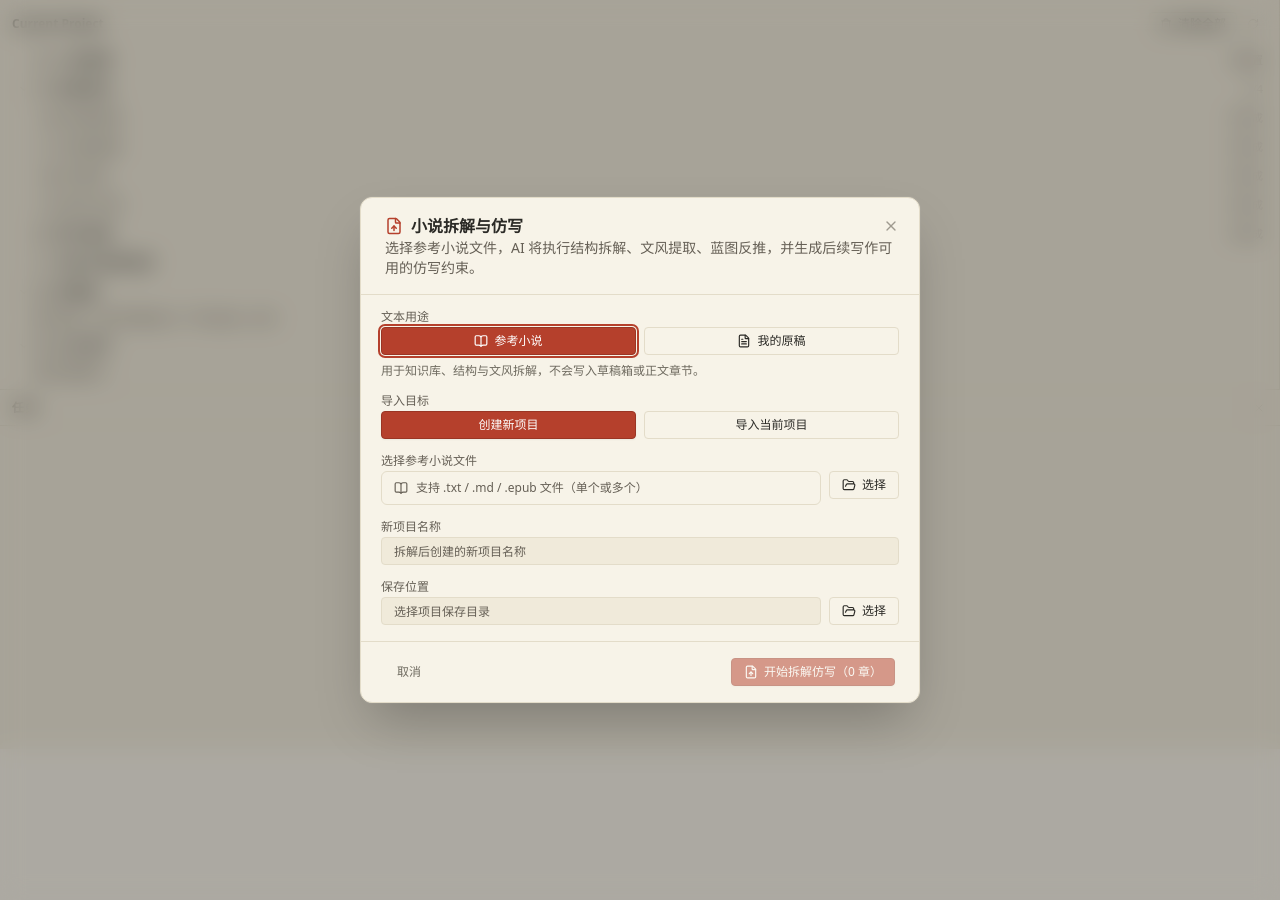
Test: current-project reference import › shows the title-only error and keeps the persisted run id while retrying the corrected source
Click the button with test id "import-target-current". click: (772, 425)
box: [644,411,899,439]
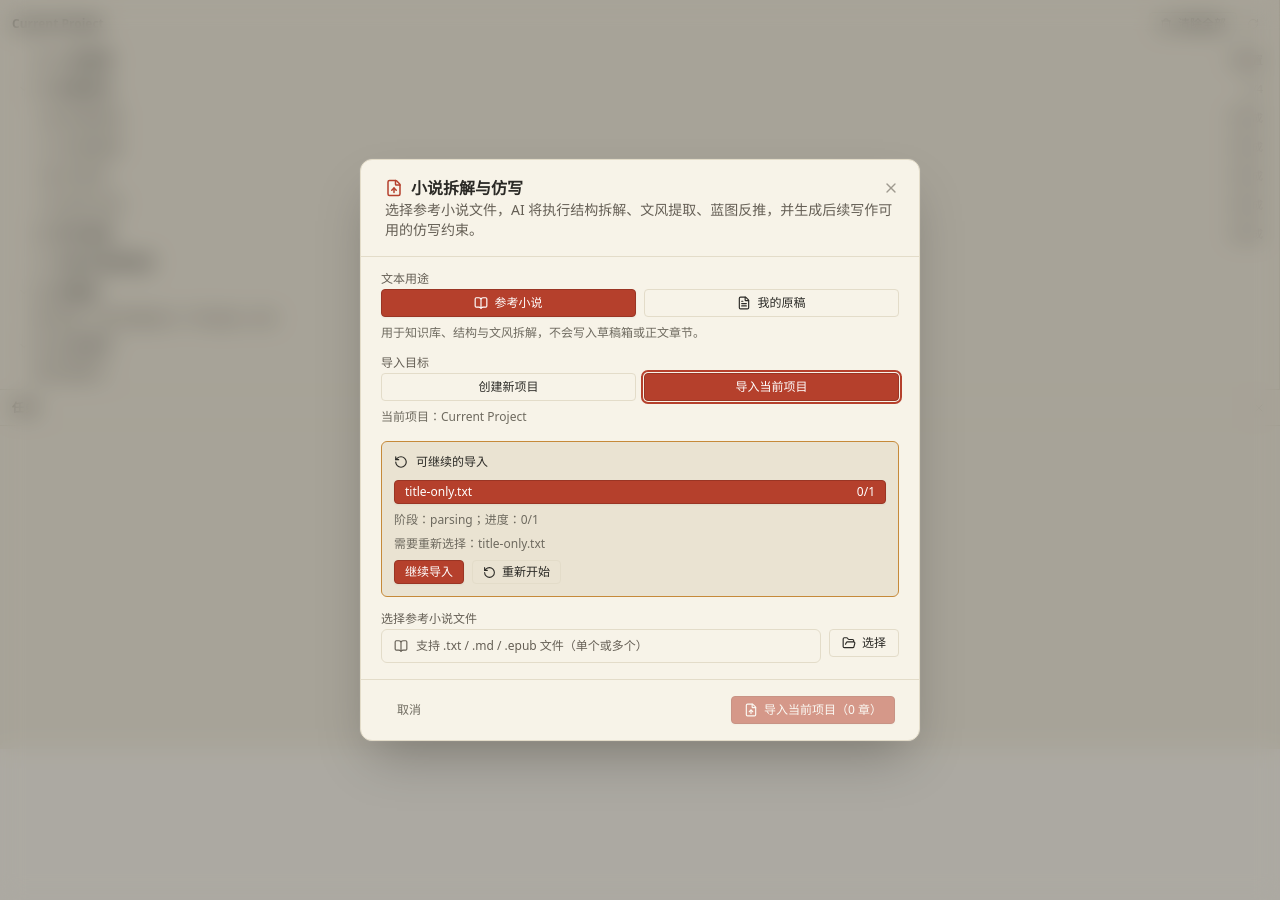
expect the text with test id "import-unfinished-sources" reads "需要重新选择：title-only.txt": met, box [394,535,545,552]
Click the button "继续导入". click: (429, 572)
box: [394,560,464,584]
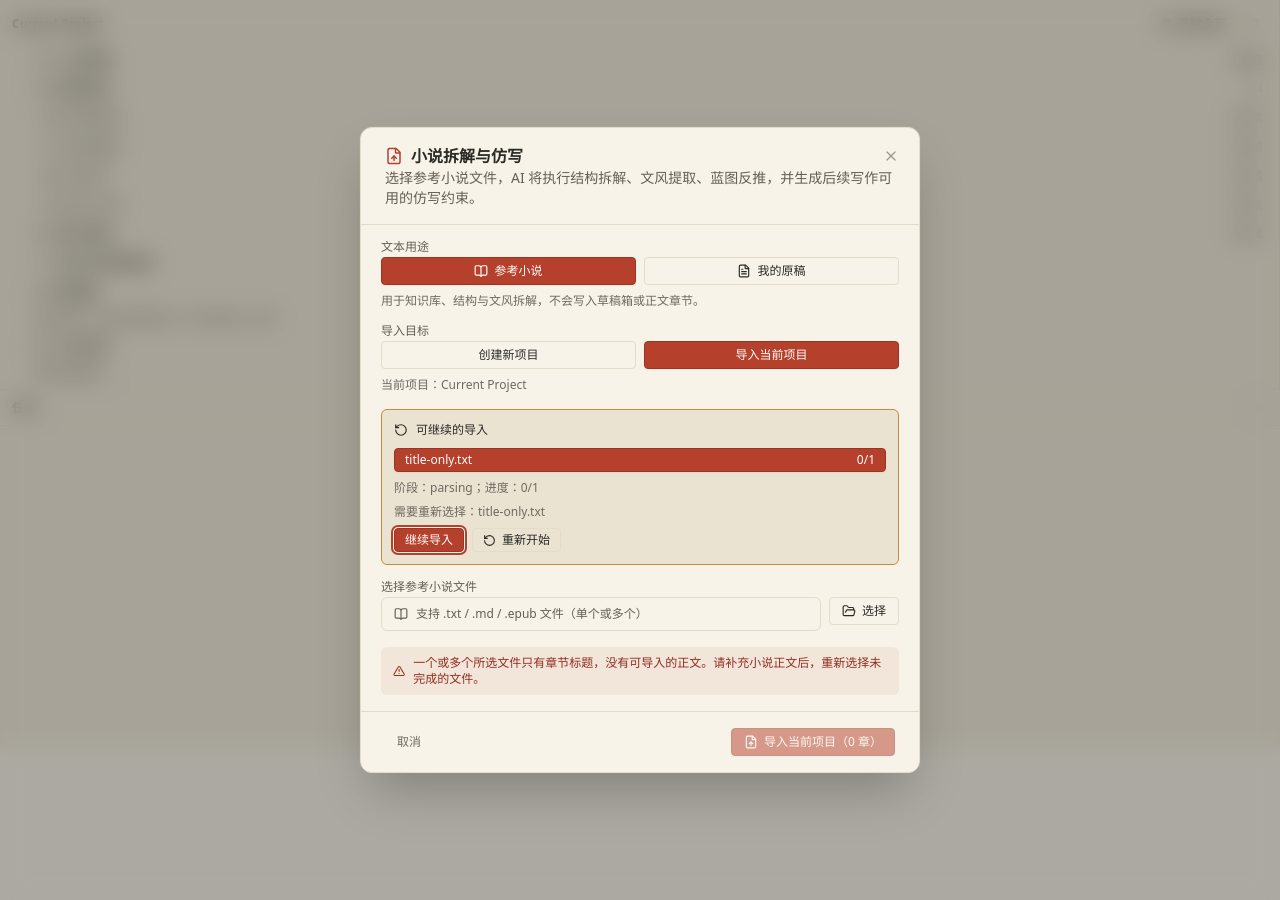
expect the text "一个或多个所选文件只有章节标题，没有可导入的正文。请补充小说正文后，重新选择未完成的文件。" is shown: met, box [381,647,899,695]
Click the button "继续导入". click: (429, 540)
box: [394,528,464,552]
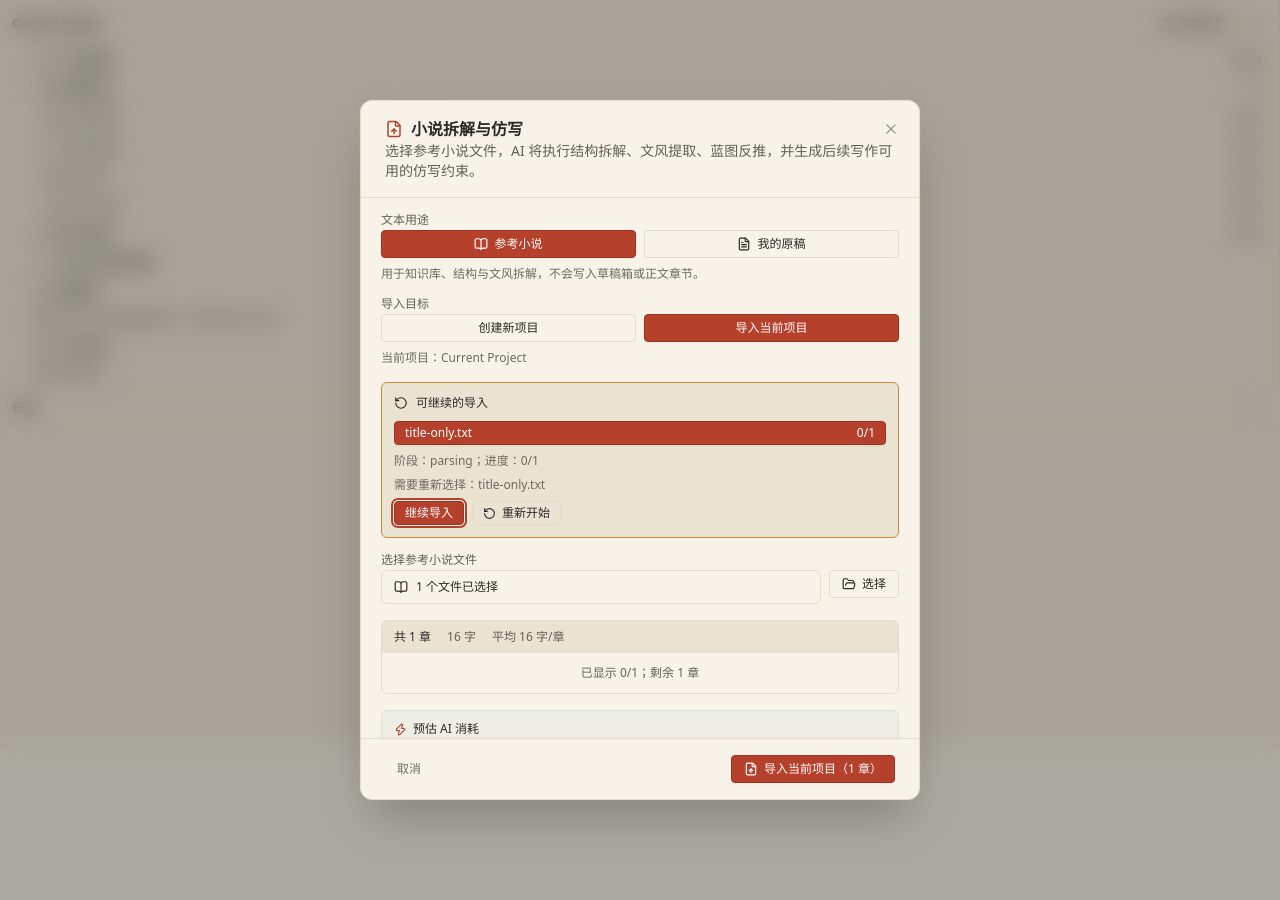
expect the text "共 1 章" is shown: met, box [394,629,431,645]
